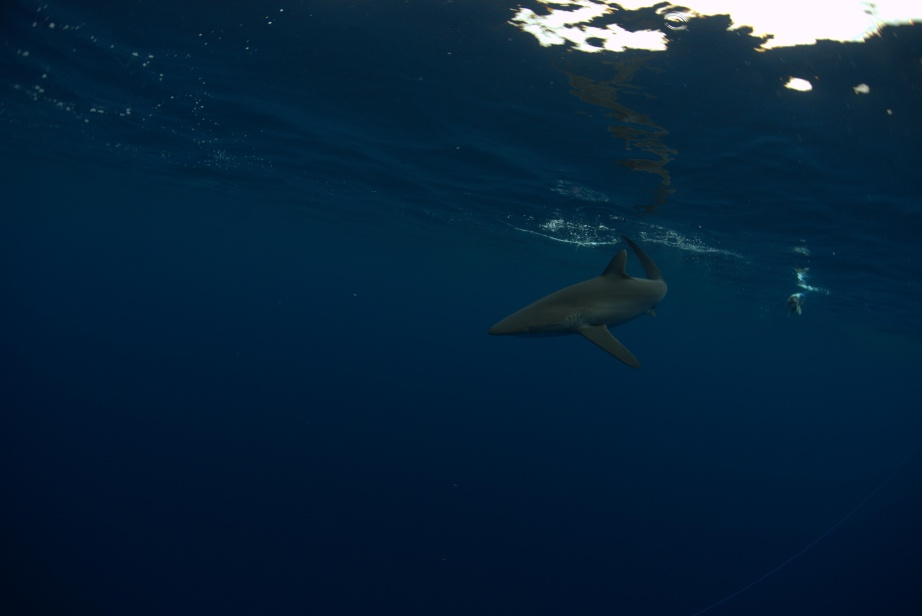Sedoso: (470, 224, 696, 373)
